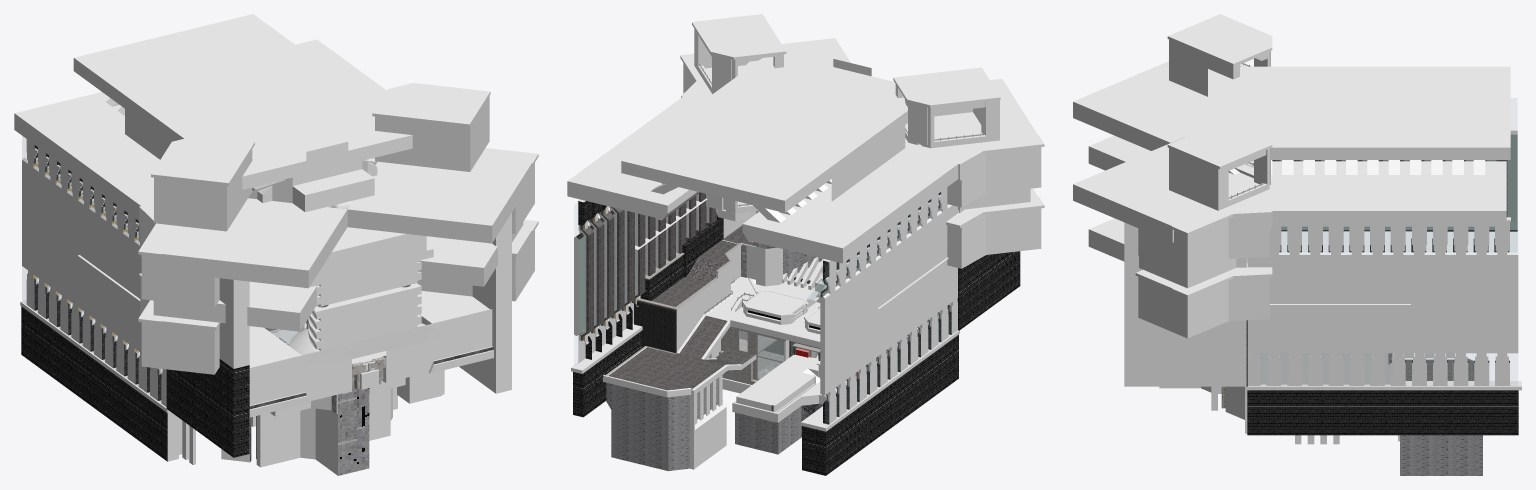
The model's file is AcademyRework.fbx.
The picture shows the model from 3 angles, left to right: view 1: azimuth 30°, elevation 25°; view 2: azimuth 150°, elevation 25°; view 3: azimuth 270°, elevation 25°; orthographic projection. The views are drawn at different scales.
Parts seen in each view (by area): view 1: Ceiling_Half-Entity51589, Group#90-Entity70616, Ceiling_Half-Entity51590, Group#90-Entity70579, Group#169-Entity70561, Group#192-Entity70635, Group#87-Entity70620, Group#87-Entity70555, Group#35-Entity70582, Group#178-Entity70590, Group#178-Entity70627, Group#175-Entity70626 (+49 smaller); view 2: Ceiling_Half-Entity51589, Ceiling_Half-Entity51590, Group#169-Entity70561, Group#90-Entity70616, Group#151-Entity29889, Group#87-Entity70555, Group#111-Entity70632, Group#35-Entity70582, Group#87-Entity70620, Group#192-Entity70635, Group#136-Entity49188, Group#168-Entity70565 (+52 smaller); view 3: Ceiling_Half-Entity51590, Group#90-Entity70579, Group#168-Entity70565, Ceiling_Half-Entity51589, Group#90-Entity70616, Group#5-Entity70566, Group#87-Entity70620, Group#35-Entity70599, Group#87-Entity70555, Group#151-Entity29889, Wall_Design_1-Entity55165, Wall_Design_1-Entity51814 (+29 smaller).
Boxes of the visible parts, x1,y1,x2,y2 form: Ceiling_Half-Entity51589: (14,36,339,220); Group#90-Entity70616: (138,198,347,331); Ceiling_Half-Entity51590: (164,14,412,203); Group#90-Entity70579: (347,148,538,286); Group#169-Entity70561: (20,300,178,461); Group#192-Entity70635: (78,255,249,457); Group#87-Entity70620: (372,83,490,171); Group#87-Entity70555: (151,135,254,231); Group#35-Entity70582: (138,273,220,374); Group#178-Entity70590: (249,343,351,417); Group#178-Entity70627: (386,309,493,380); Group#175-Entity70626: (332,190,440,363); Ceiling_Half-Entity51589: (703,63,958,263); Ceiling_Half-Entity51590: (567,55,852,220); Group#169-Entity70561: (801,330,959,475); Group#90-Entity70616: (905,79,1044,209); Group#151-Entity29889: (606,379,726,471); Group#87-Entity70555: (893,67,1000,148); Group#111-Entity70632: (637,220,742,352); Group#35-Entity70582: (897,188,1044,268); Group#87-Entity70620: (692,14,786,93); Group#192-Entity70635: (878,206,1020,330); Group#136-Entity49188: (603,347,724,397); Group#168-Entity70565: (571,323,642,417); Ceiling_Half-Entity51590: (1185,107,1510,226); Group#90-Entity70579: (1073,143,1272,288); Group#168-Entity70565: (1246,381,1521,435); Ceiling_Half-Entity51589: (1185,66,1510,127); Group#90-Entity70616: (1073,61,1253,170); Group#5-Entity70566: (1124,304,1247,386); Group#87-Entity70620: (1167,117,1272,210); Group#35-Entity70599: (1135,263,1272,338); Group#87-Entity70555: (1167,14,1272,96); Group#151-Entity29889: (1400,435,1482,475); Wall_Design_1-Entity55165: (1495,304,1518,385); Wall_Design_1-Entity51814: (1495,217,1518,303).
Size of the model in its own units: 664 by 572 by 698.
